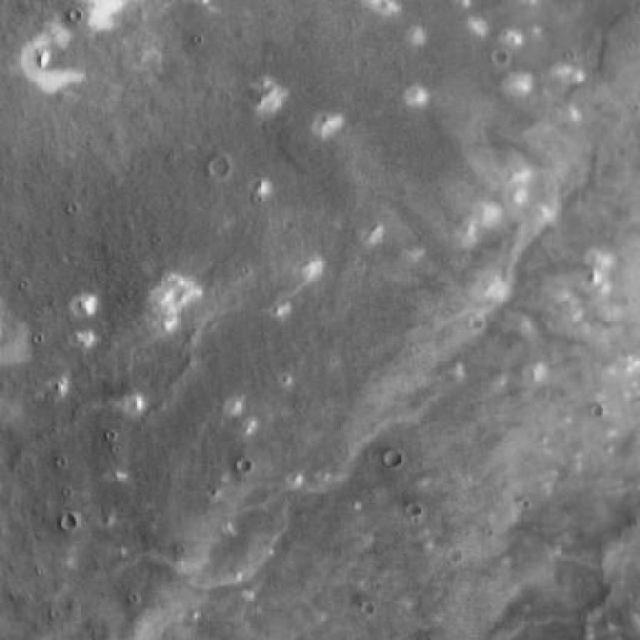crater: (204, 158, 224, 178), (382, 450, 400, 468)
